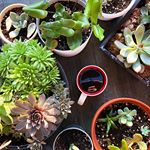cups: (76, 63, 110, 108)
